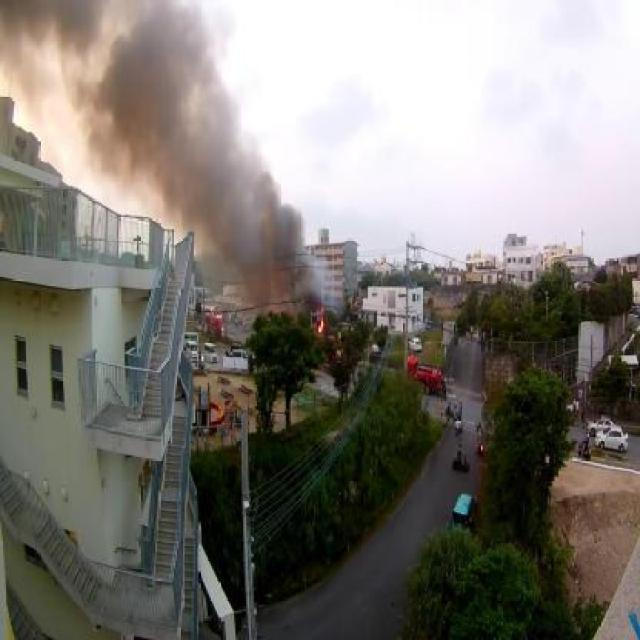Fire: (317, 319, 325, 332)
